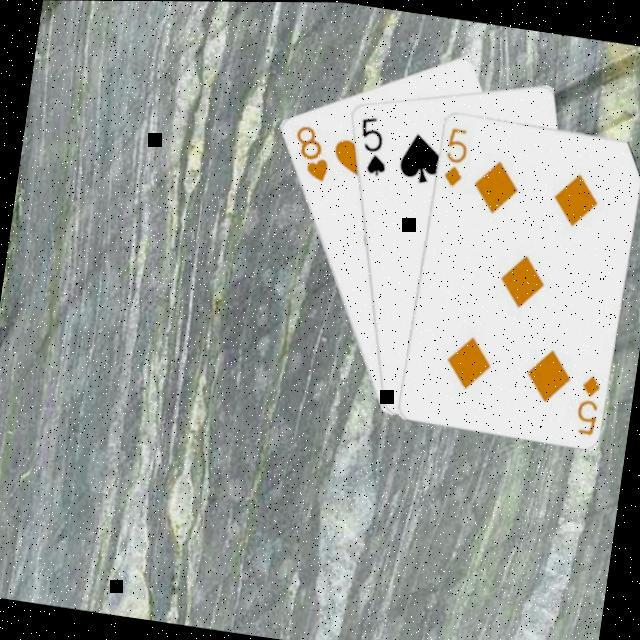5D: (568, 370, 602, 439), (436, 124, 471, 191)
5S: (348, 112, 392, 180)
8H: (284, 121, 334, 188)
